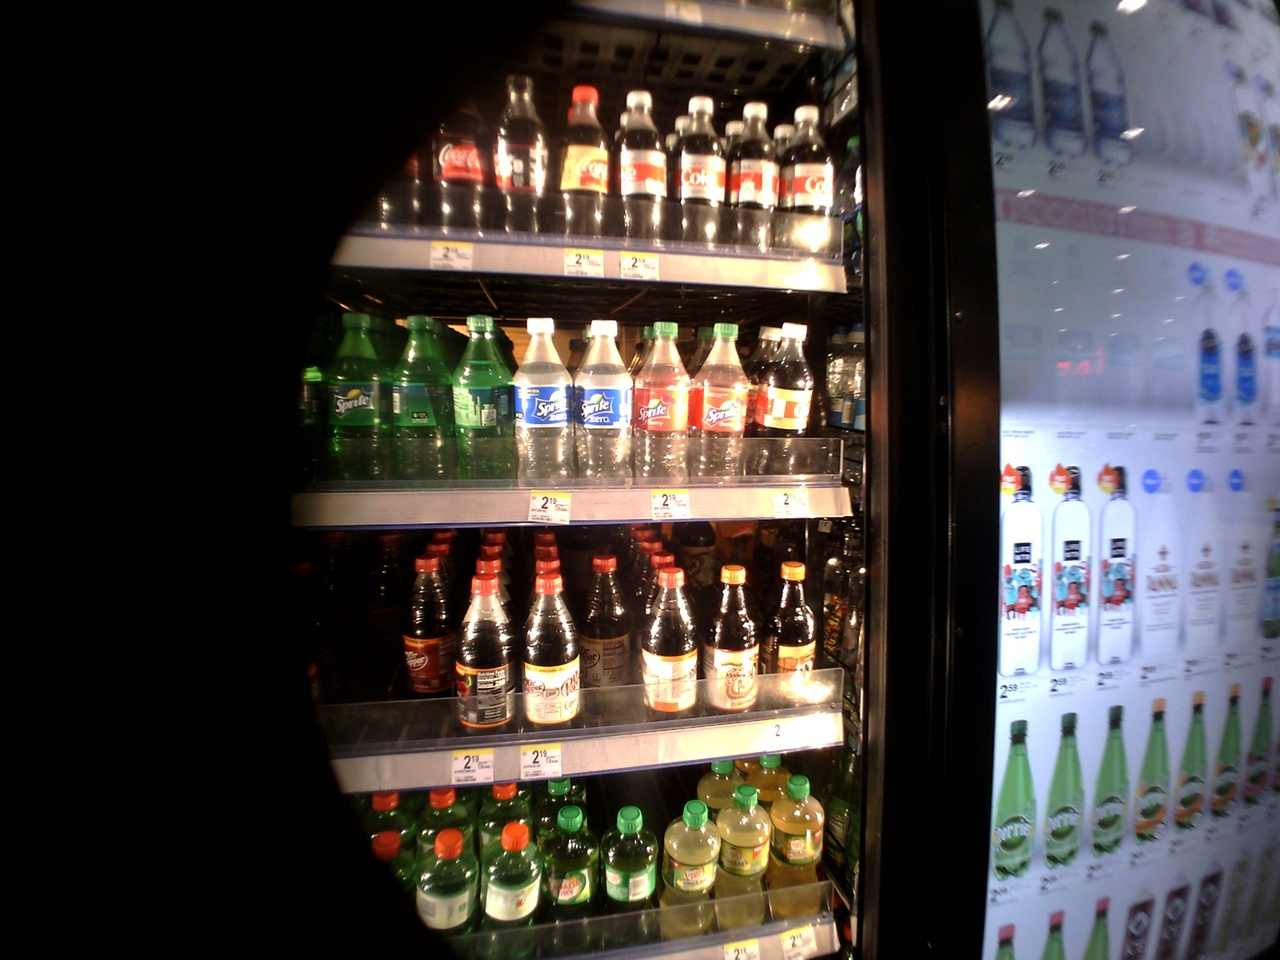shelf: (294, 530, 851, 772), (294, 55, 826, 307), (282, 297, 849, 531), (325, 763, 858, 947)
